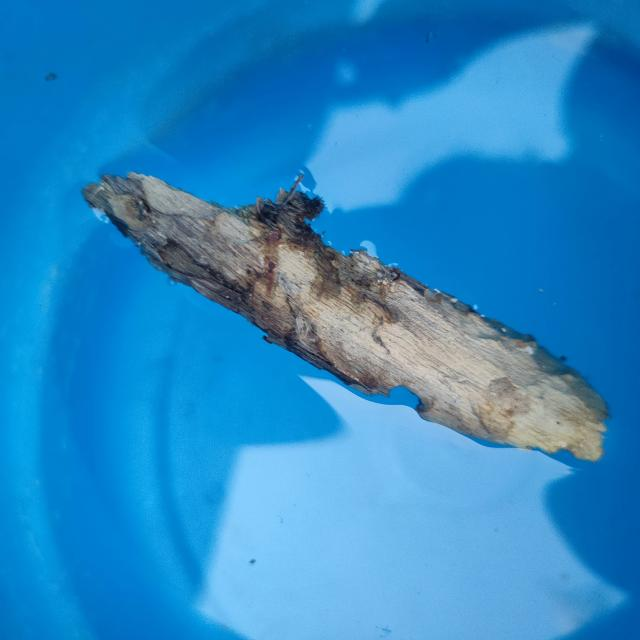wood: (69, 119, 621, 480)
